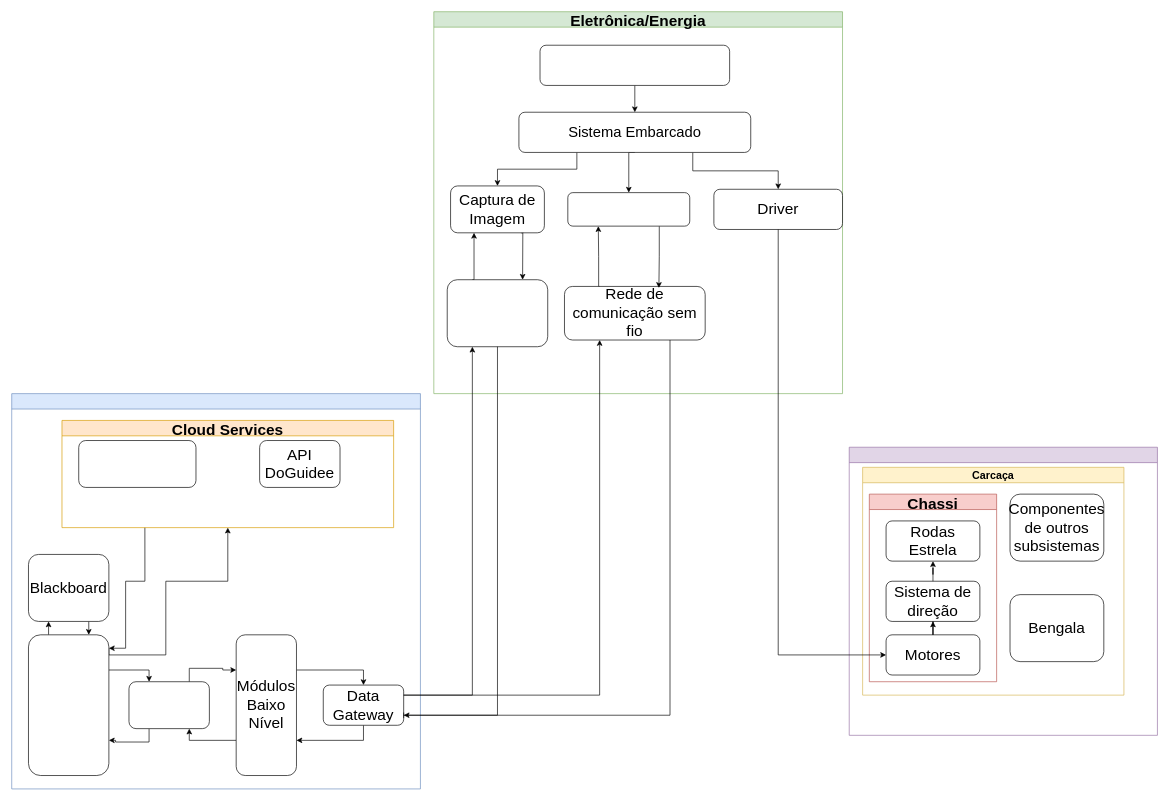
The diagram is 1169 pixels wide and 801 high, and some of its shapes have lost their labels. Here are the shapes that lost their labels. From the top down, the box of each, then its label:
(539, 45, 730, 85): Sistema de Alimentação
(567, 192, 690, 226): Sensores
(447, 279, 548, 347): Sistema Operacional Nativo
(78, 440, 196, 487): API Rotas e Geolocalização
(11, 393, 420, 789): Software
(849, 447, 1157, 735): Estruturas
(28, 634, 109, 776): Módulos Alto Nível
(128, 681, 209, 729): Message Broker
